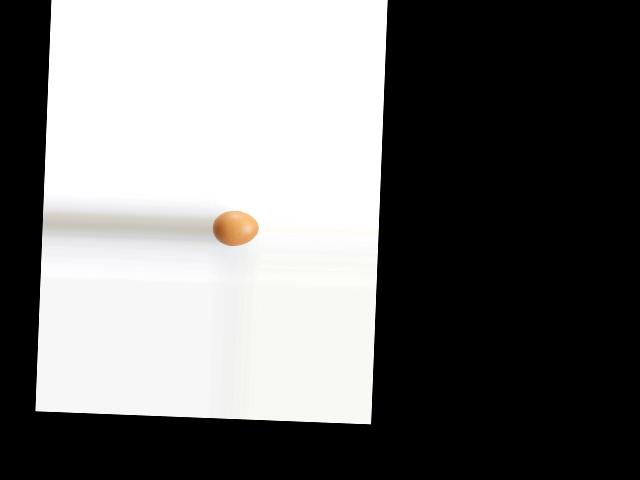egg: (211, 210, 259, 247)
